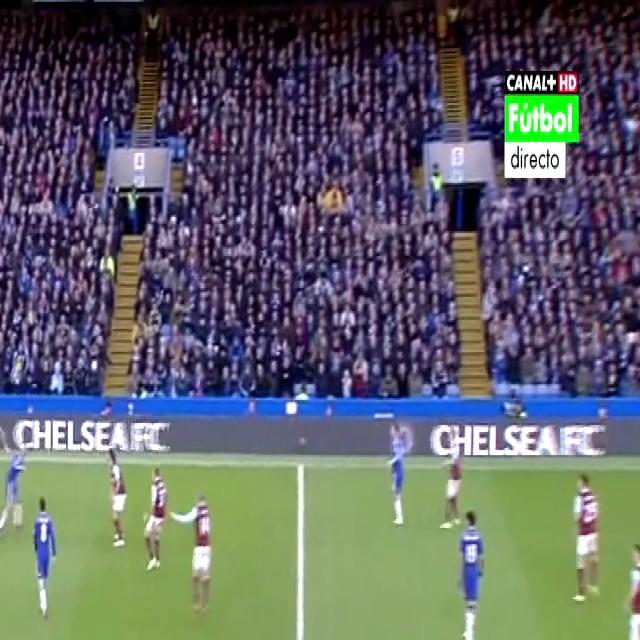soccer-player: (567, 461, 609, 611), (453, 501, 494, 640), (182, 485, 222, 625), (29, 493, 64, 628), (383, 413, 417, 537), (138, 456, 172, 578), (100, 425, 130, 551), (434, 423, 466, 537), (0, 432, 28, 537), (620, 528, 640, 640), (0, 409, 6, 505), (0, 633, 10, 640)
